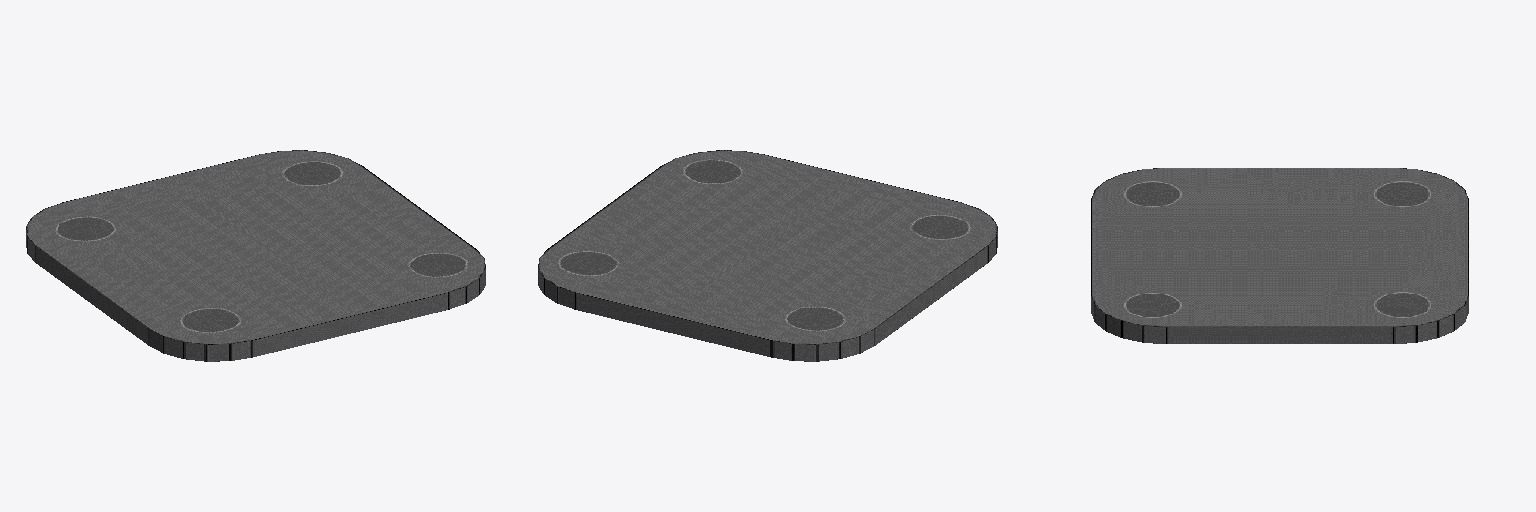
The picture shows the model from 3 angles: view 1: azimuth 30°, elevation 25°; view 2: azimuth 150°, elevation 25°; view 3: azimuth 270°, elevation 25°; orthographic projection.
Parts seen in each view (by area): view 1: 立方体.002; view 2: 立方体.002; view 3: 立方体.002.
Part boxes in pixels (x1,y1,x2,y2): 立方体.002: (26, 150, 485, 361); 立方体.002: (538, 150, 997, 361); 立方体.002: (1091, 168, 1468, 343).
Size of the model in its own units: 0.9918 by 0.0496 by 0.9918.
Materials: 1 (1 with a texture image).